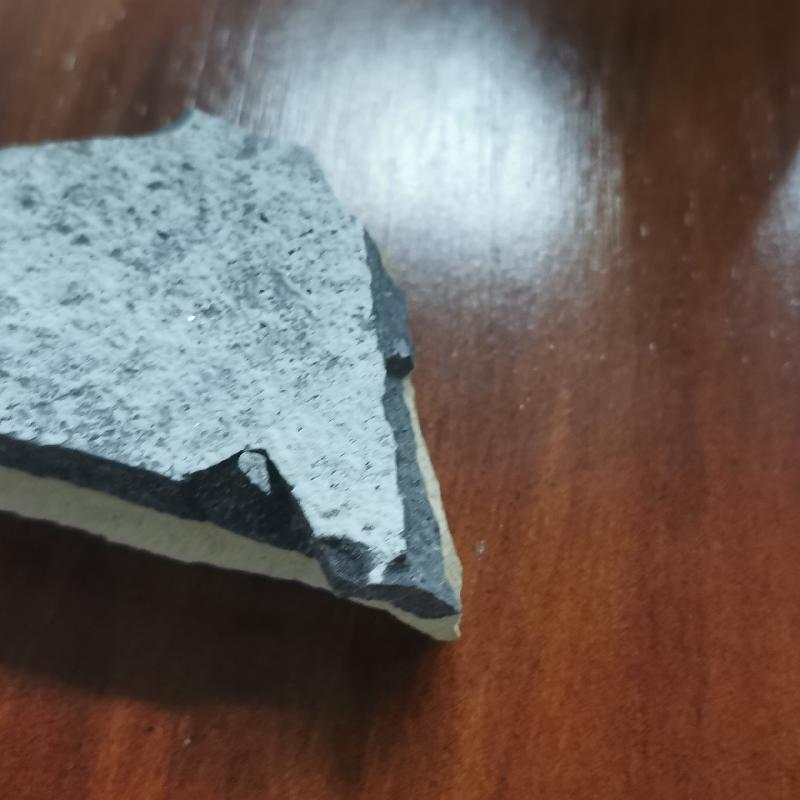tile: (4, 102, 475, 654)
